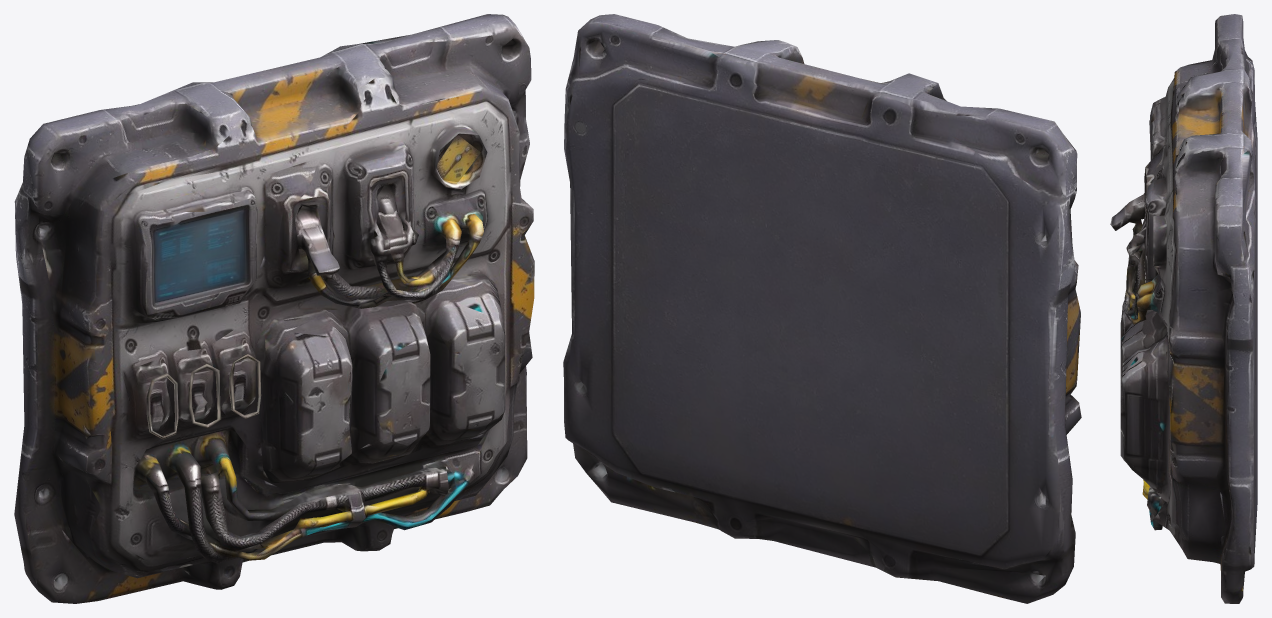
Rendered from panneau_electrique.glb.
3 views of the same model, side by side, from view 1: azimuth 30°, elevation 25°; view 2: azimuth 150°, elevation 25°; view 3: azimuth 270°, elevation 25° (orthographic). The views are drawn at different scales.
Visible parts, largest first — view 1: tripo_node_d90d469f-7e50-402a-a01b-83f0ddf0af67; view 2: tripo_node_d90d469f-7e50-402a-a01b-83f0ddf0af67; view 3: tripo_node_d90d469f-7e50-402a-a01b-83f0ddf0af67.
Boxes of the visible parts, x1,y1,x2,y2 form: tripo_node_d90d469f-7e50-402a-a01b-83f0ddf0af67: [14, 14, 534, 603]; tripo_node_d90d469f-7e50-402a-a01b-83f0ddf0af67: [563, 14, 1081, 603]; tripo_node_d90d469f-7e50-402a-a01b-83f0ddf0af67: [1110, 14, 1257, 603].
Bounding box in the file's own units: 0.9977 × 0.9151 × 0.2964.
Materials: 1 (1 with a texture image).
